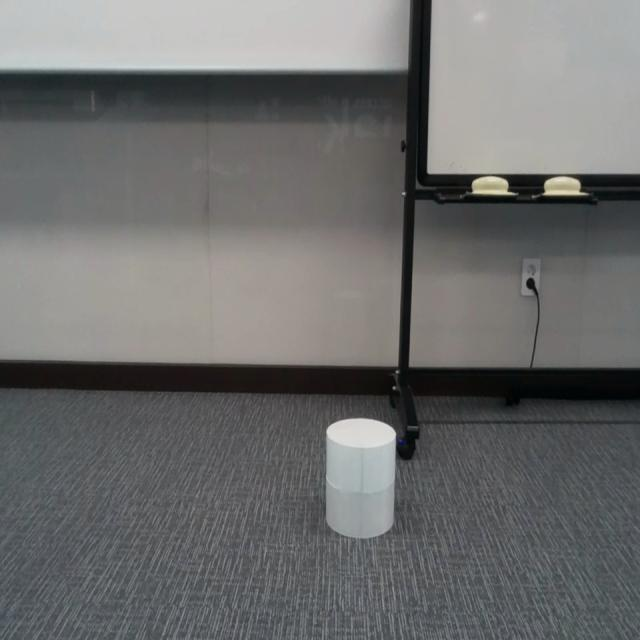cylinder: (325, 417, 396, 538)
